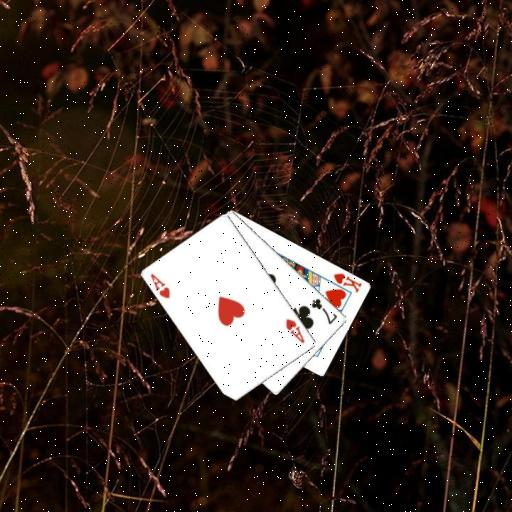7C: (308, 296, 340, 326)
AH: (147, 270, 172, 300), (283, 315, 307, 345)
KH: (331, 270, 363, 295)
